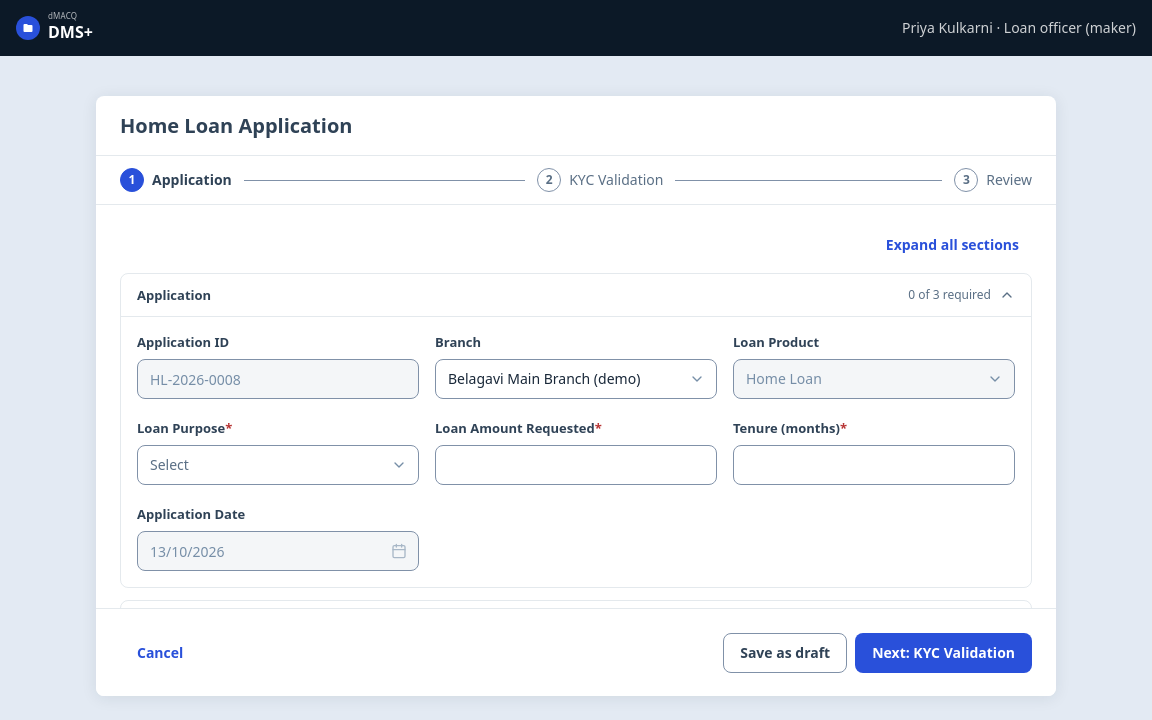
Test: ApplyPage shell › draws the sample section from the schema
The width and height of the screenshot is (1152, 720).
Click the button "Expand all sections". click: x=952, y=245
box: 873,229 -> 1032,261
(page scrolled)
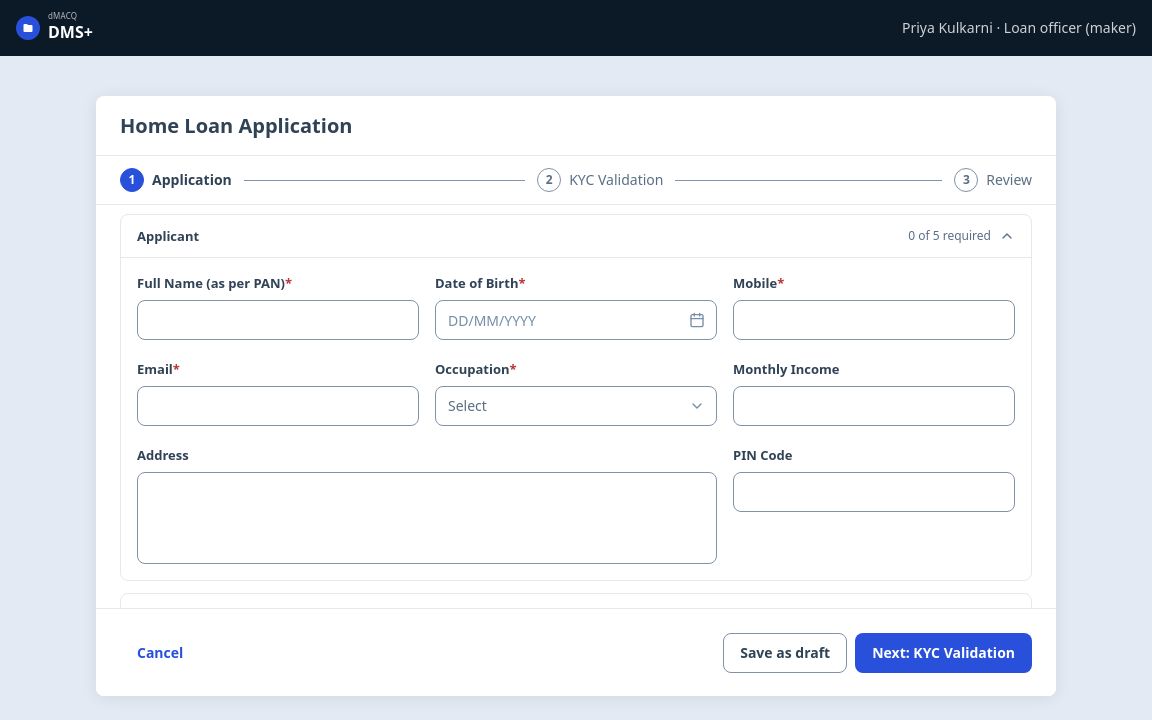
Expected: the heading "Applicant 0 of 5 required" is shown, 121,215 -> 1031,257
Expected: the field labelled "Full Name (as per PAN)*" is shown, 137,300 -> 419,340
Expected: the dropdown labelled "Occupation*" is shown, 435,386 -> 717,426
